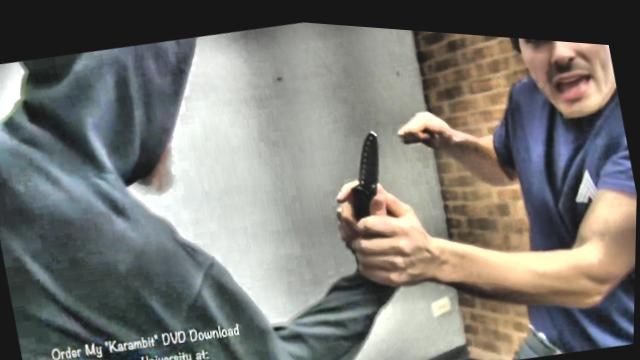knife: (315, 113, 407, 250)
